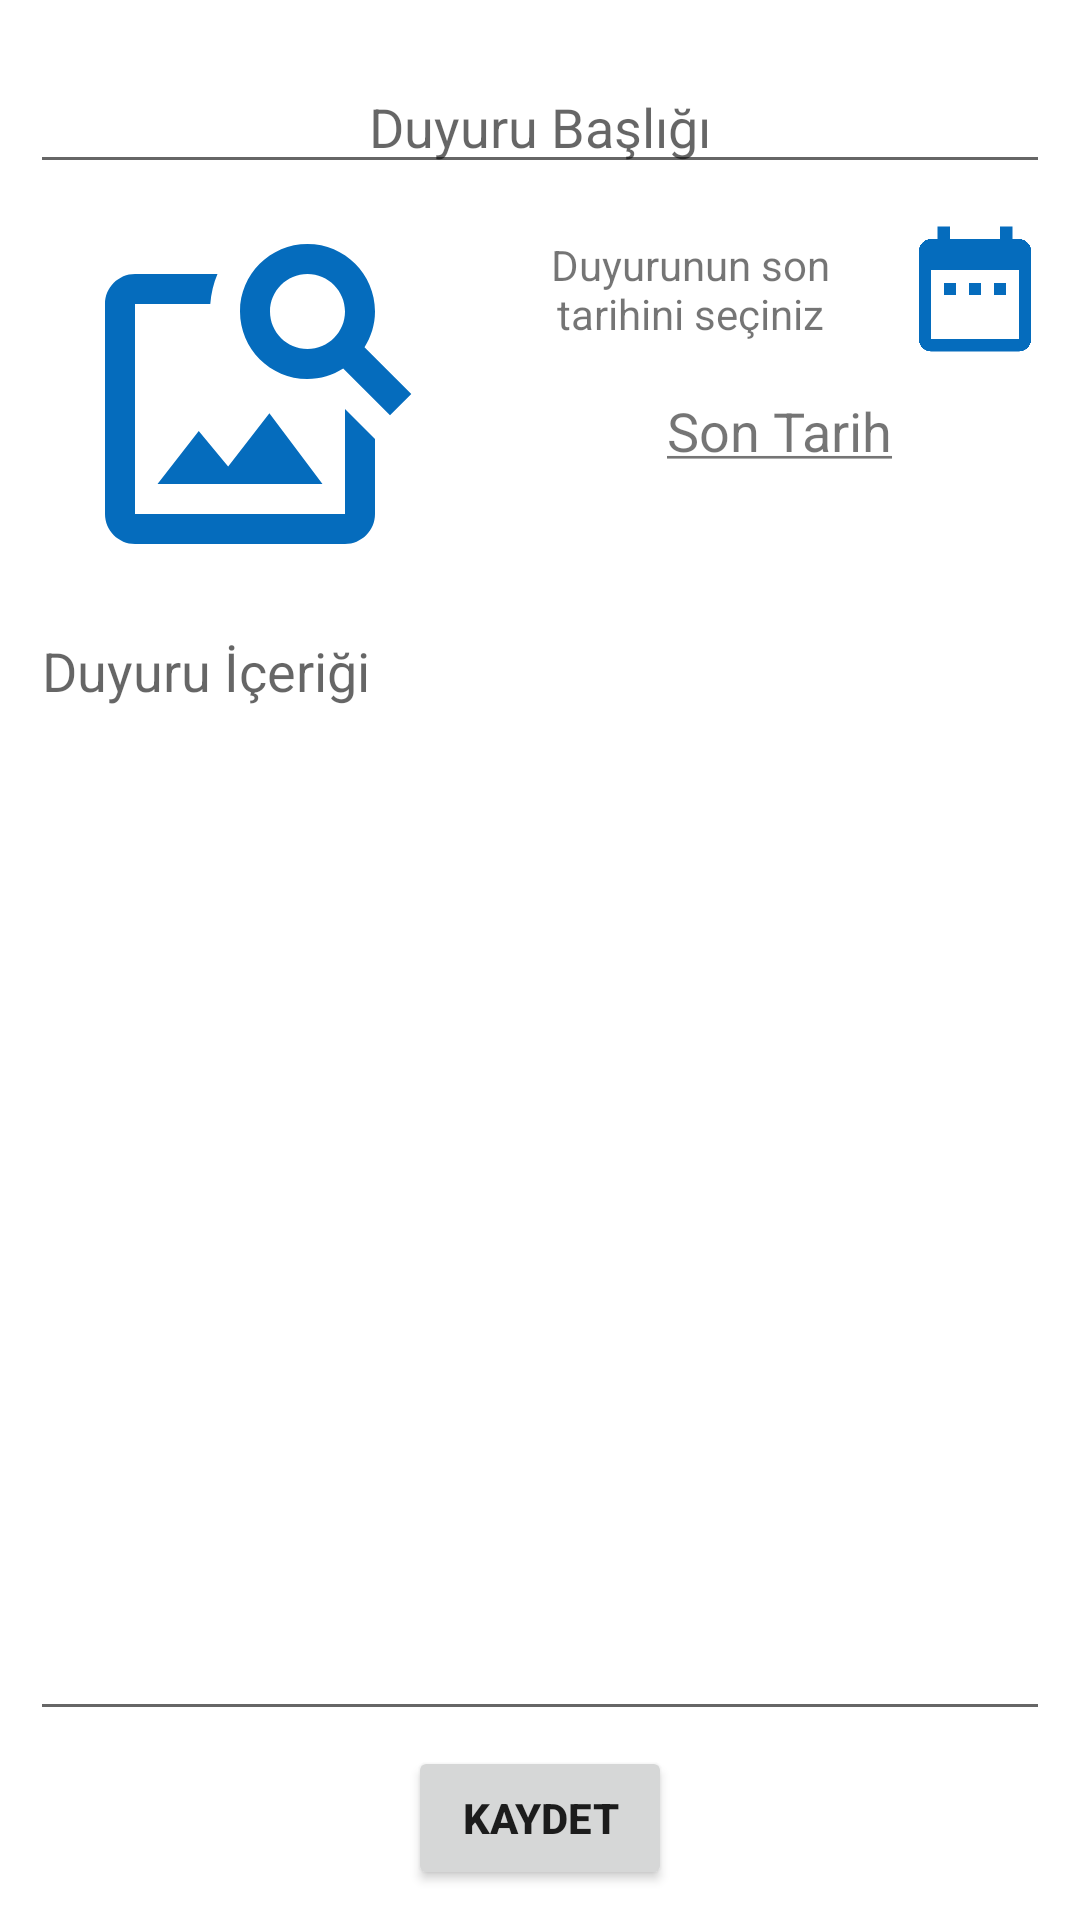

Icons on this 1080w x 1920h Android screen, each with its box as (x1, y1, x2, y2):
search: (105, 244, 411, 544)
